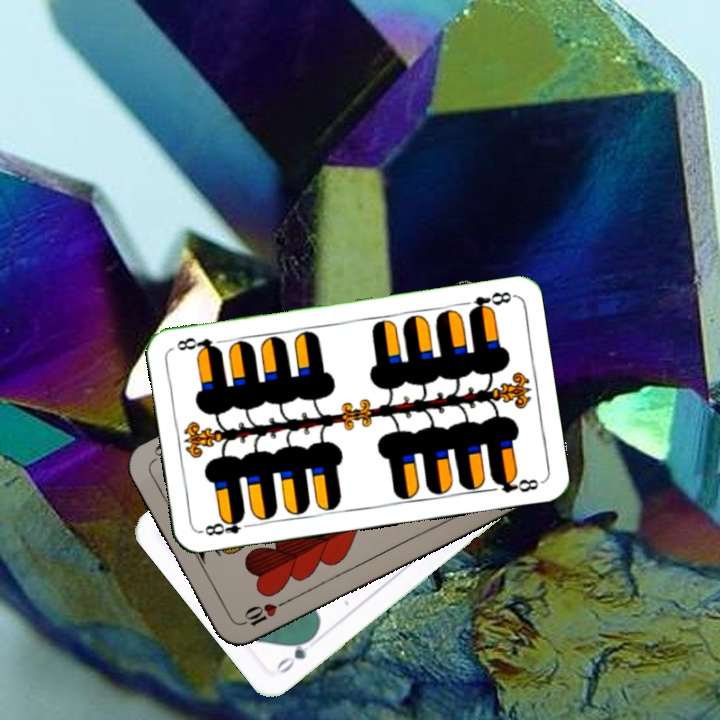E8: (197, 511, 257, 539), (464, 287, 516, 317)
GO: (271, 630, 321, 677)
H10: (234, 596, 290, 629)
